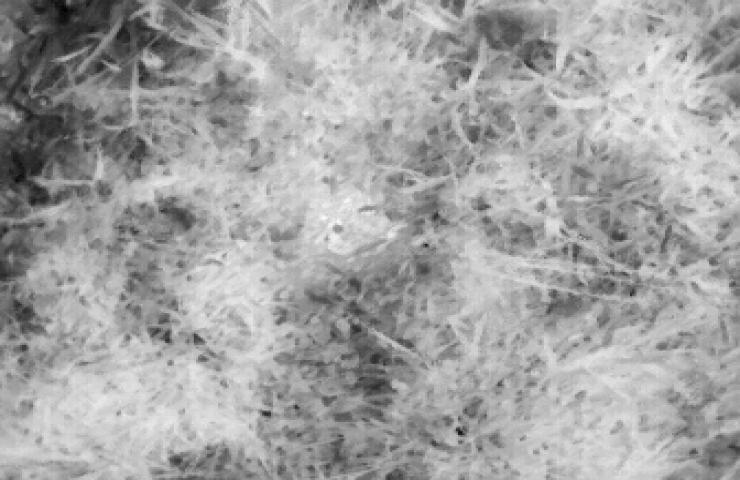landmines: (303, 191, 393, 264)
